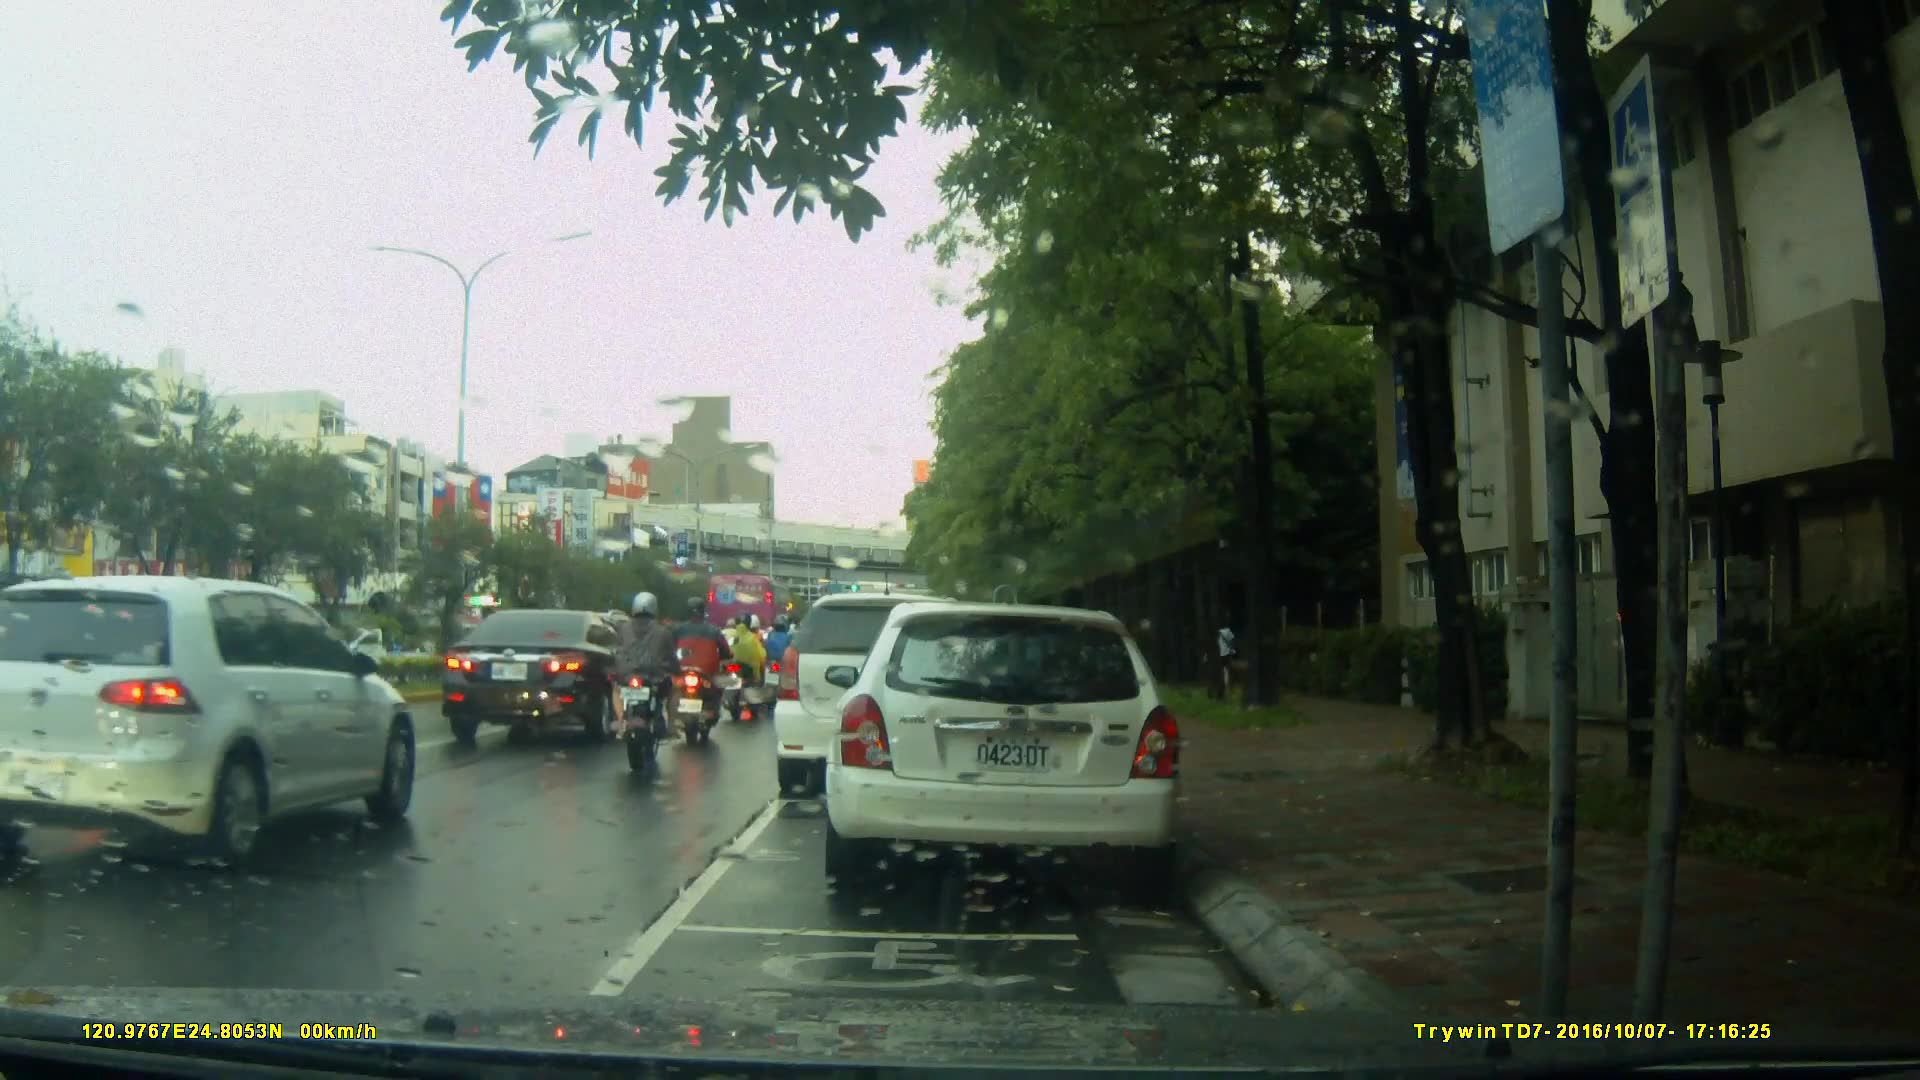pedestrian: (1212, 616, 1240, 695)
rider: (607, 589, 680, 791), (676, 593, 736, 749), (719, 609, 769, 731), (762, 610, 804, 713)
vehicle: (7, 571, 430, 867), (835, 594, 1194, 898), (776, 590, 1026, 784), (441, 606, 666, 752), (704, 573, 794, 648)
